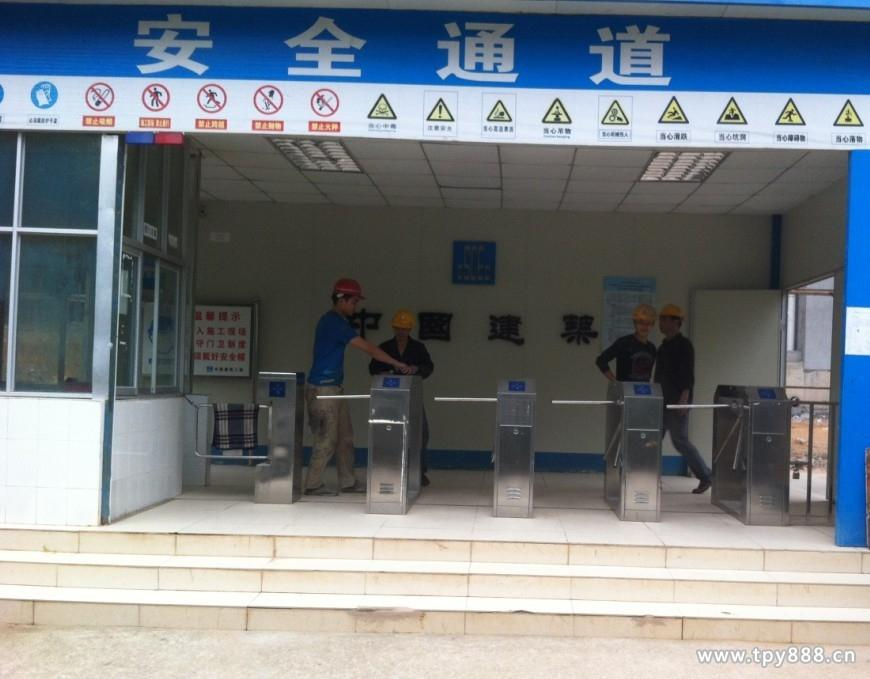helmet: (330, 278, 364, 299), (389, 310, 417, 330), (635, 304, 655, 325), (660, 303, 683, 318)
no_wear: (313, 317, 346, 387), (371, 340, 426, 378), (664, 338, 694, 394), (616, 337, 653, 381)
